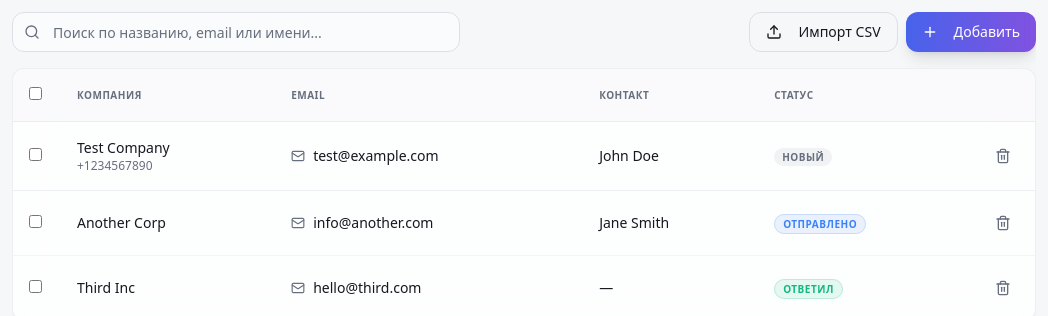
ContactsList › search functionality › should filter contacts by email
The image size is (1048, 316).
Type "another.com" into the field with placeholder "Поиск по названию, email или имени..." at (236, 32), box [12, 12, 460, 52]
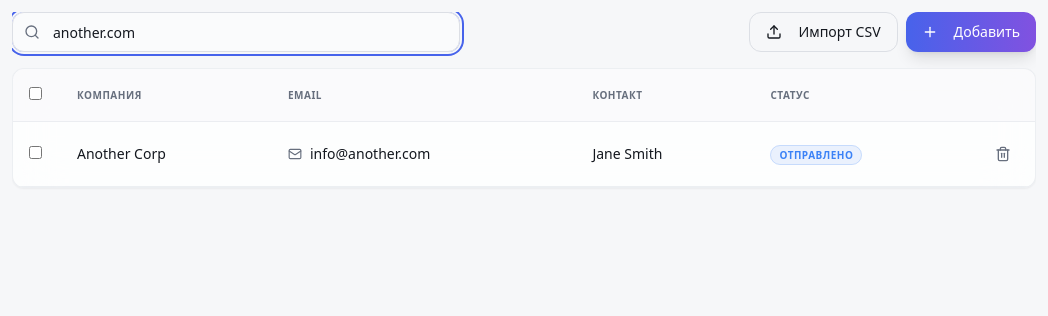
Expected: the text "Another Corp" is shown, [77, 144, 166, 163]
Now the text "Test Company" is gone
